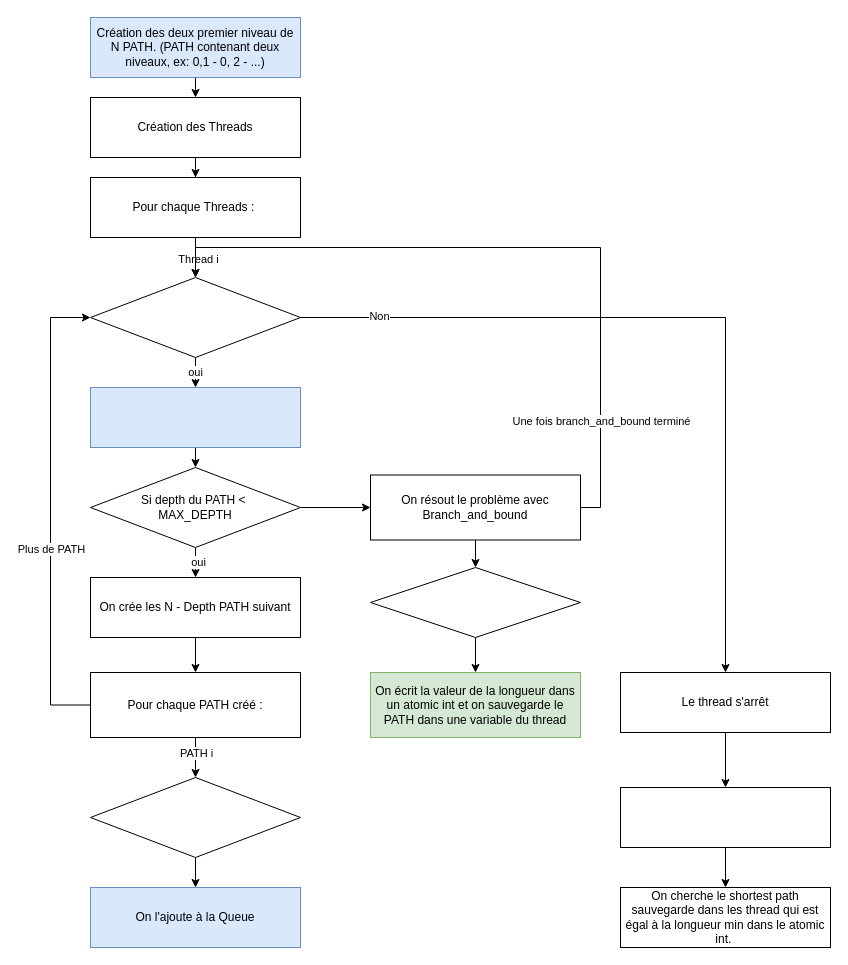
The diagram is 848 pixels wide and 965 high, and some of its shapes have lost their labels. The shapes that lost their labels are listed below. From the top down, each one's centre as x and y in pixels, then its label:
the point at 195,317: Si la Queue n'est pas vide
the point at 195,417: Prend un Path dans la Queue
the point at 475,602: Si on trouve un shortest path
the point at 195,817: Si la longueur du PATH i est plus petite que le shortest
the point at 725,817: Join les threads
